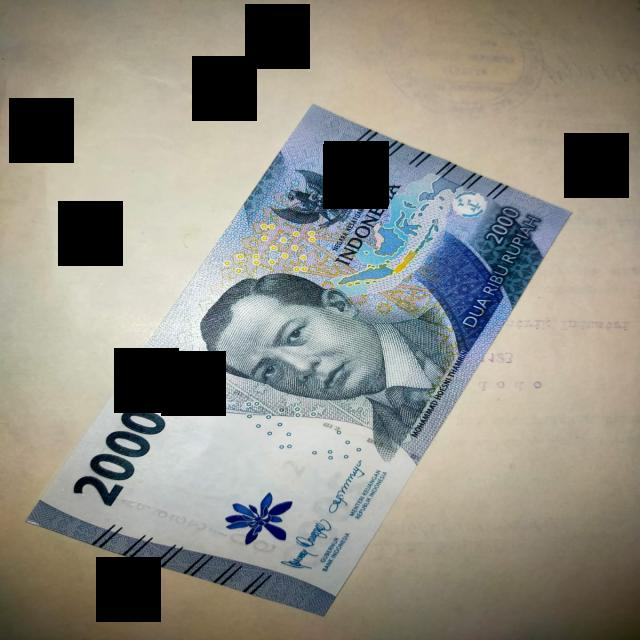dua ribu rupiah: (28, 106, 568, 615)
